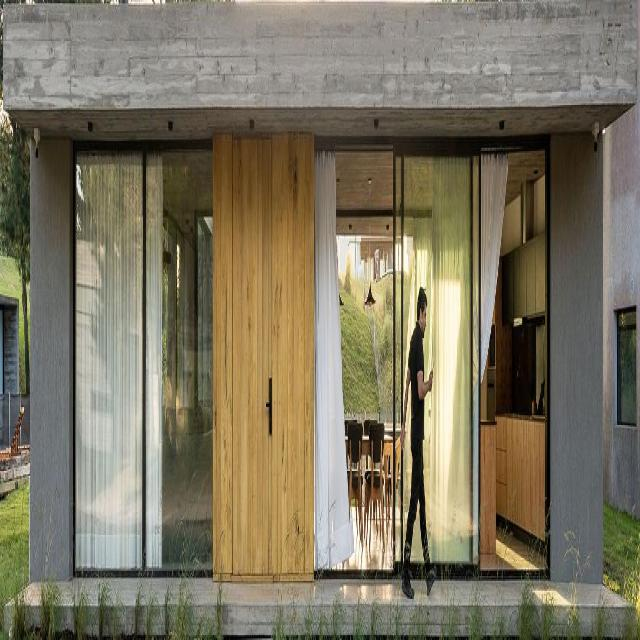door: (214, 131, 274, 573)
wall: (2, 0, 636, 626)
windows: (314, 134, 550, 580), (76, 129, 214, 576)
